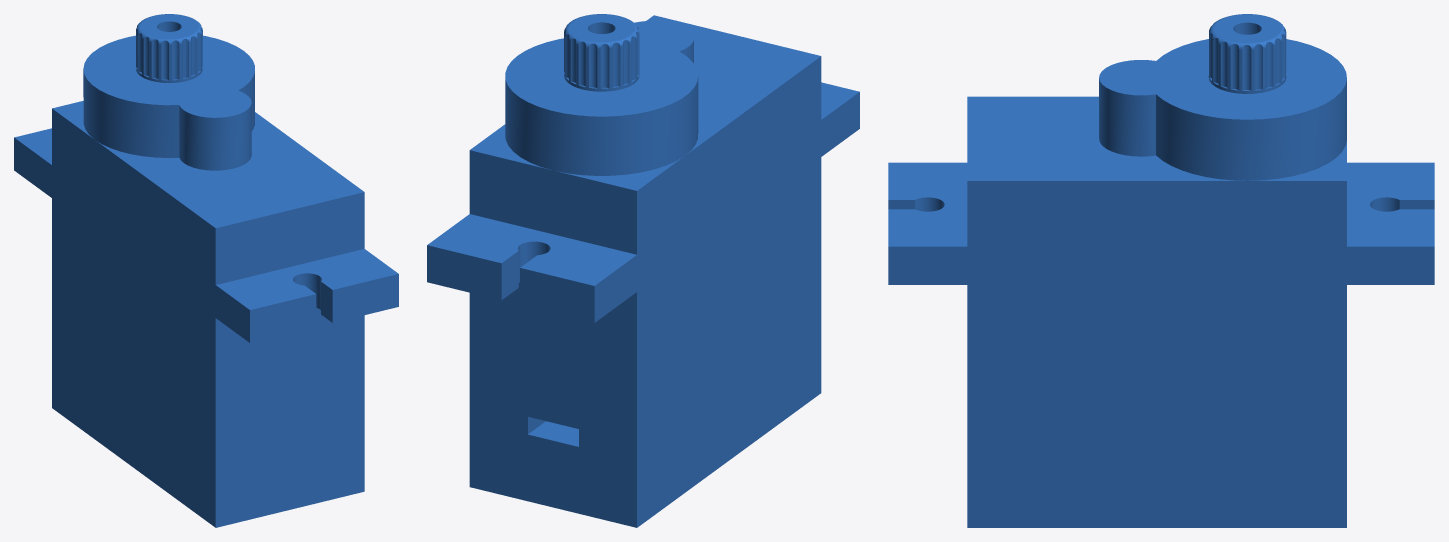
The picture shows the model from 3 angles, left to right: view 1: azimuth 30°, elevation 25°; view 2: azimuth 150°, elevation 25°; view 3: azimuth 270°, elevation 25°; orthographic projection. The views are drawn at different scales.
Visible parts, largest first — view 1: sg90; view 2: sg90; view 3: sg90.
Part boxes in pixels (left/top/right/bottom): sg90: left=14, top=14, right=398, bottom=527; sg90: left=427, top=14, right=859, bottom=527; sg90: left=888, top=14, right=1434, bottom=527.
Bounding box in the file's own units: 0.0118 × 0.0299 × 0.0324.
